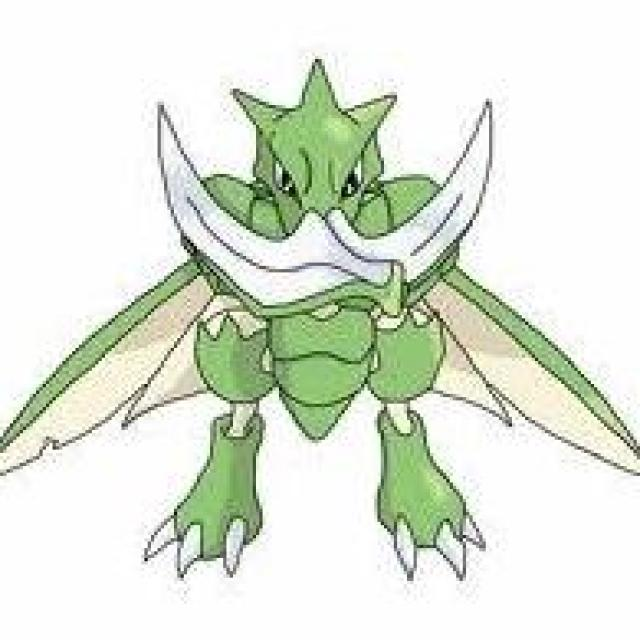Scyther: (144, 61, 493, 575)
